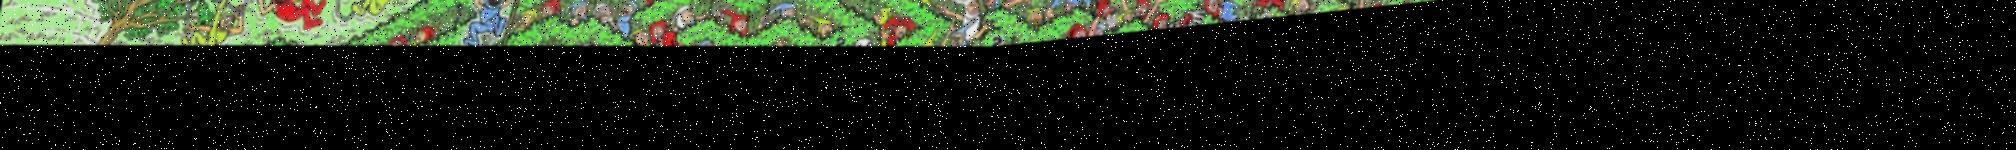waldo: (1102, 28, 1122, 55)
